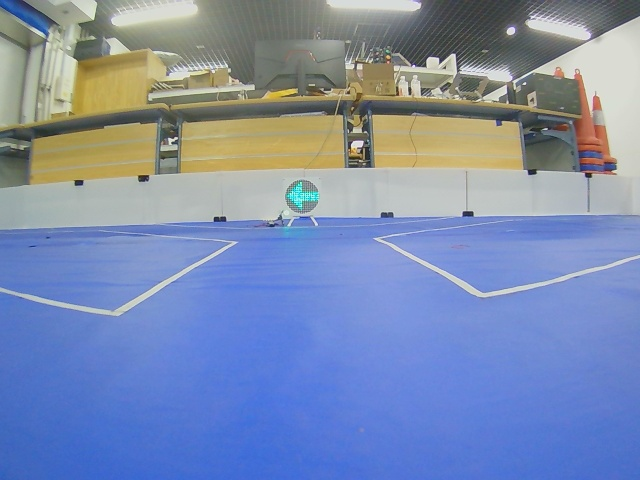left_green: (285, 180, 319, 214)
